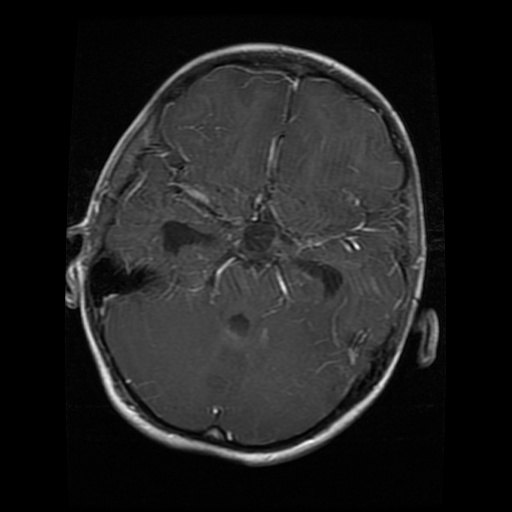glioma: (160, 220, 211, 252)
